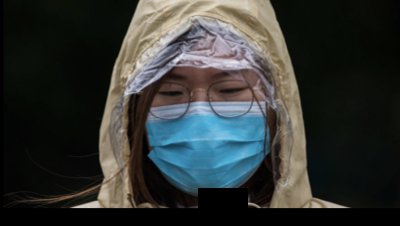with_mask: (144, 68, 272, 198)
